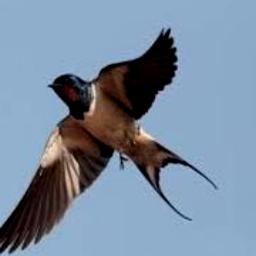Swallow: (0, 26, 216, 255)
